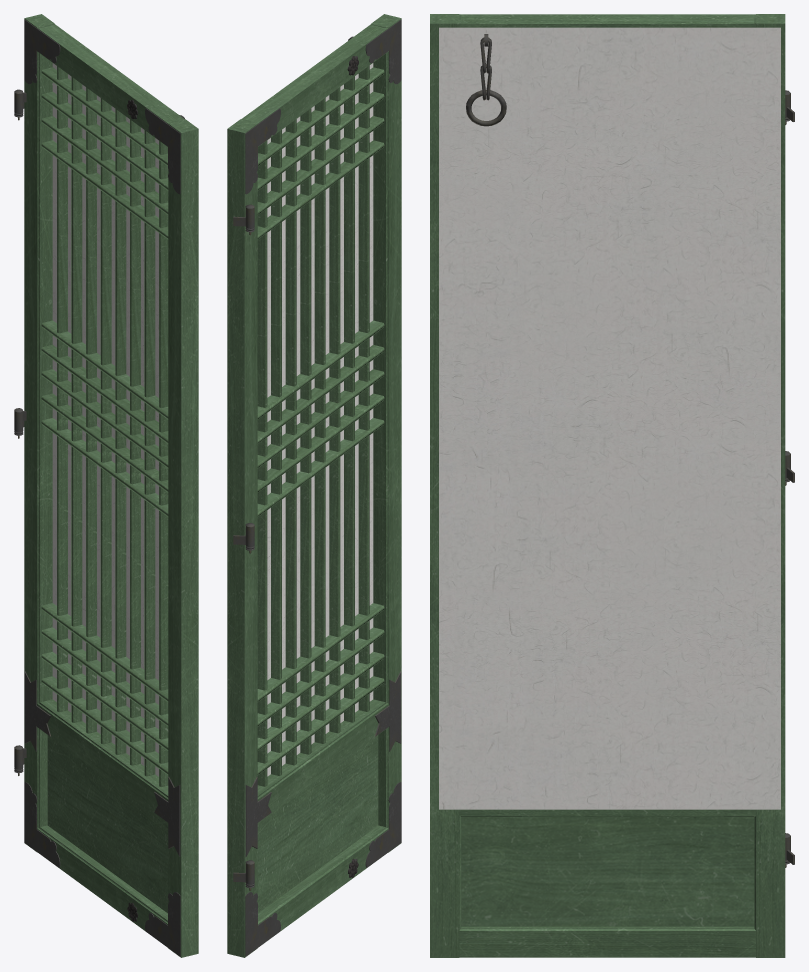
File: SM_Door09C.fbx
3 renders of one model, left to right at view 1: azimuth 30°, elevation 25°; view 2: azimuth 150°, elevation 25°; view 3: azimuth 270°, elevation 25°, orthographic. The views are drawn at different scales.
Parts seen in each view (by area): view 1: SM_Door09C; view 2: SM_Door09C; view 3: SM_Door09C.
Part boxes in pixels (box(x1,y1,x2,y2)): SM_Door09C: box(14, 14, 198, 957); SM_Door09C: box(227, 14, 401, 957); SM_Door09C: box(430, 14, 794, 957).
Bounding box in the file's own units: 12.05 × 88.52 × 250.
Materials: 1 (1 with a texture image).
